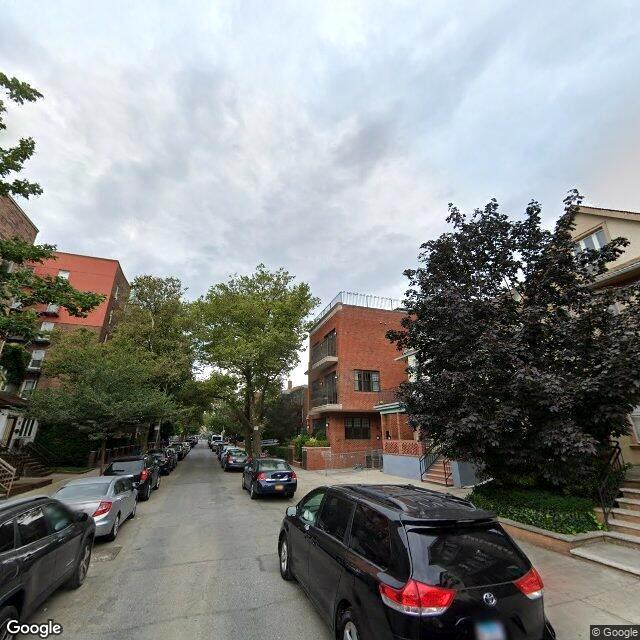Smoke: (20, 1, 602, 292)
